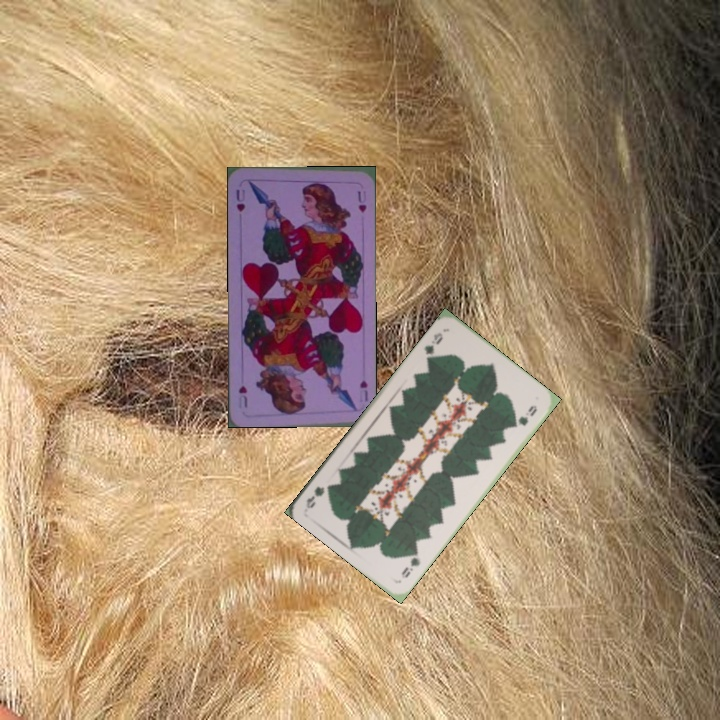G9: (420, 328, 445, 364), (397, 546, 423, 580)
HU: (232, 186, 247, 214), (356, 376, 370, 404)
